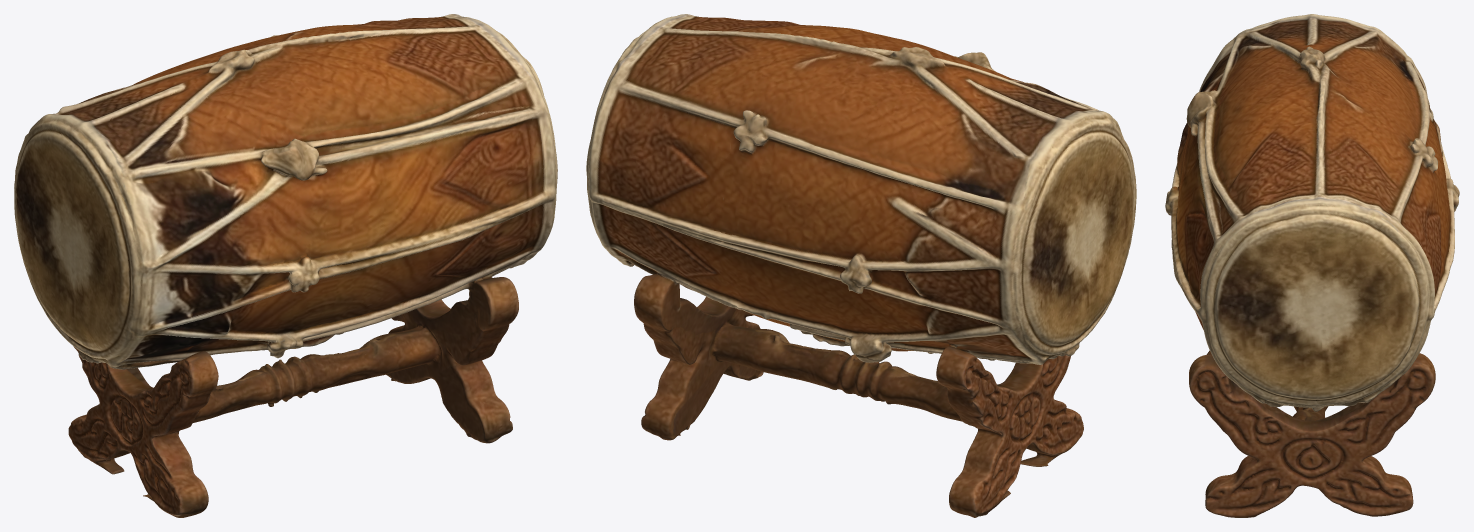
File: kendang.glb
The picture shows the model from 3 angles, left to right: view 1: azimuth 30°, elevation 25°; view 2: azimuth 150°, elevation 25°; view 3: azimuth 270°, elevation 25°; orthographic projection. The views are drawn at different scales.
Visible parts, largest first — view 1: mesh_node; view 2: mesh_node; view 3: mesh_node.
Boxes of the visible parts, x1,y1,x2,y2 form: mesh_node: (14,14,557,517); mesh_node: (586,14,1136,517); mesh_node: (1165,14,1459,517).
Bounding box in the file's own units: 1.9 × 1.7 × 1.19.
1 material, 1 textured.
